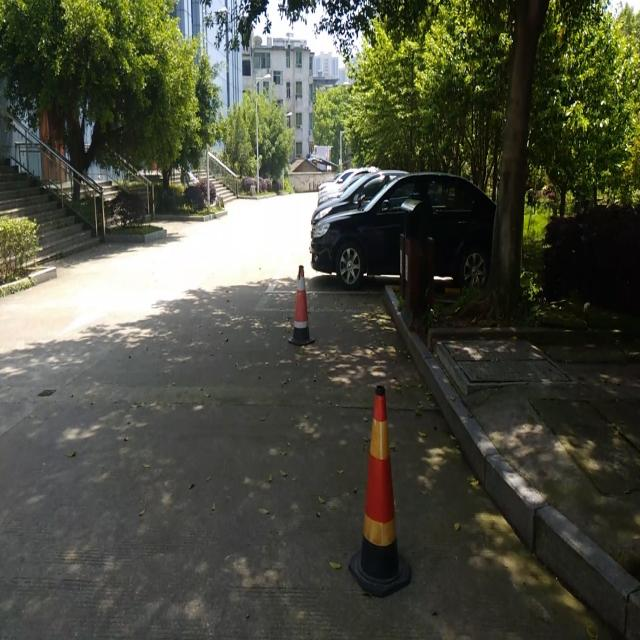ash bin: (400, 199, 437, 317)
car: (308, 168, 494, 286)
pole: (254, 101, 260, 194)
reflective_cone: (349, 388, 413, 598), (288, 263, 316, 346)
